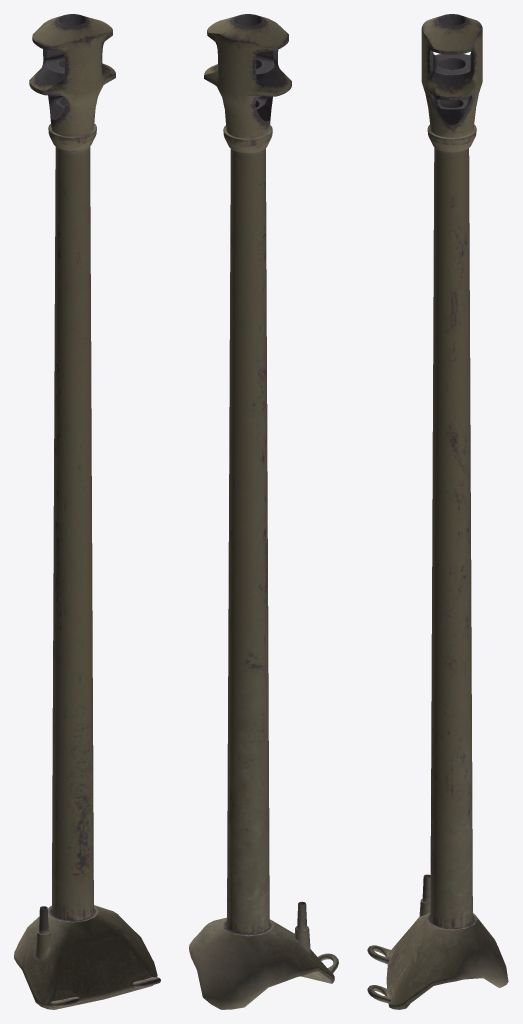
File: Gun_08.glb
3 views of the same model, side by side, from view 1: azimuth 30°, elevation 25°; view 2: azimuth 150°, elevation 25°; view 3: azimuth 270°, elevation 25° (orthographic).
Visible parts, largest first — view 1: set_0_group_0; view 2: set_0_group_0; view 3: set_0_group_0.
Boxes of the visible parts, box(x1,y1,x2,y2) form: set_0_group_0: box(14, 14, 160, 1009); set_0_group_0: box(189, 14, 338, 1009); set_0_group_0: box(367, 14, 508, 1009).
Size of the model in its own units: 0.7462 by 5.65 by 0.7505.
Materials: 1 (1 with a texture image).
